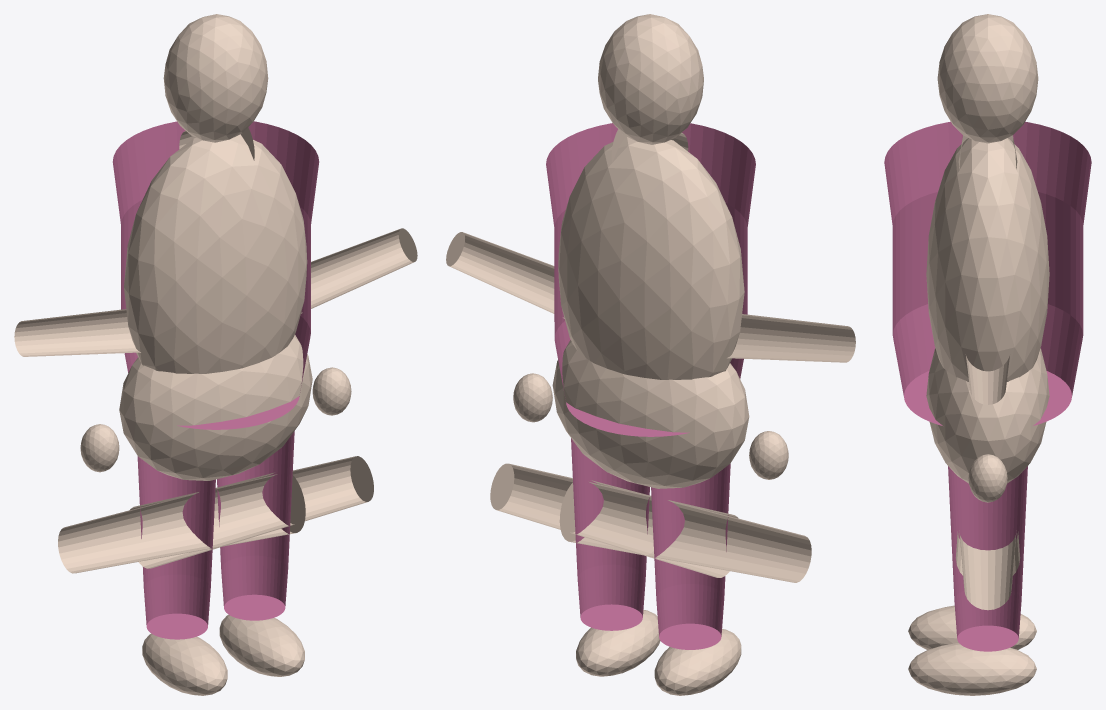
File: femenino-enterizo.glb
The picture shows the model from 3 angles, left to right: view 1: azimuth 30°, elevation 25°; view 2: azimuth 150°, elevation 25°; view 3: azimuth 270°, elevation 25°; orthographic projection.
Visible parts, largest first — view 1: Avatar0, Prenda, Avatar1, Avatar3, Avatar4, Avatar8, Avatar6, Avatar10, Avatar5, Avatar9, Avatar7, Avatar11; view 2: Avatar0, Prenda, Avatar1, Avatar3, Avatar4, Avatar8, Avatar6, Avatar10, Avatar5, Avatar9, Avatar7, Avatar11; view 3: Prenda, Avatar0, Avatar3, Avatar1, Avatar9, Avatar8, Avatar5, Avatar11, Avatar10, Avatar4.
Part boxes in pixels (x1,y1,x2,y2): Avatar0: (124,134,307,373); Prenda: (112,121,319,639); Avatar1: (119,335,312,480); Avatar3: (163,14,268,142); Avatar4: (58,472,305,573); Avatar8: (130,456,373,568); Avatar6: (14,309,140,356); Avatar10: (301,228,417,313); Avatar5: (142,633,227,695); Avatar9: (219,614,304,676); Avatar7: (80,424,119,472); Avatar11: (312,367,351,415); Avatar0: (558,136,744,379); Prenda: (546,123,755,649); Avatar1: (552,340,749,488); Avatar3: (598,14,703,144); Avatar4: (559,480,811,582); Avatar8: (490,463,738,577); Avatar6: (727,314,855,362); Avatar10: (446,232,564,318); Avatar5: (654,629,741,695); Avatar9: (576,609,660,676); Avatar7: (749,431,788,479); Avatar11: (513,373,552,422); Prenda: (884,121,1091,651); Avatar0: (926,138,1049,381); Avatar3: (937,14,1038,143); Avatar1: (926,348,1049,483); Avatar9: (908,643,1036,695); Avatar8: (959,530,1016,610); Avatar5: (908,605,1036,649); Avatar11: (968,454,1007,502); Avatar10: (965,354,1010,404); Avatar4: (955,531,1020,575).
Bounding box in the file's own units: 1.61 × 2.58 × 0.74.
